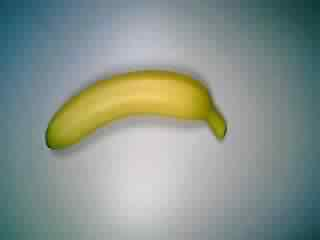banana: (41, 64, 234, 155)
